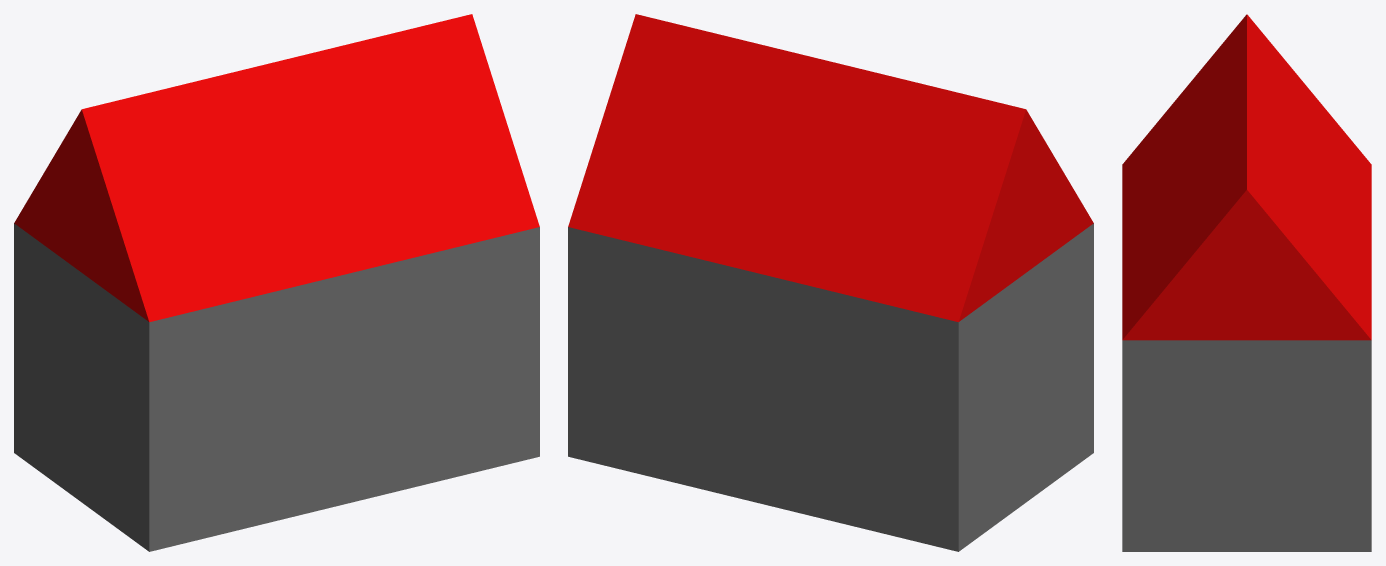
File: SimpleHouse.fbx
The picture shows the model from 3 angles, left to right: view 1: azimuth 30°, elevation 25°; view 2: azimuth 150°, elevation 25°; view 3: azimuth 270°, elevation 25°; orthographic projection. The views are drawn at different scales.
Parts seen in each view (by area): view 1: Object_2, Object_1; view 2: Object_2, Object_1; view 3: Object_1, Object_2.
Boxes of the visible parts, x1,y1,x2,y2 form: Object_2: [14, 223, 539, 551]; Object_1: [14, 14, 539, 321]; Object_2: [568, 223, 1093, 551]; Object_1: [568, 14, 1093, 321]; Object_1: [1122, 14, 1371, 340]; Object_2: [1122, 340, 1371, 551].
Size of the model in its own units: 5 by 4.81 by 3.
